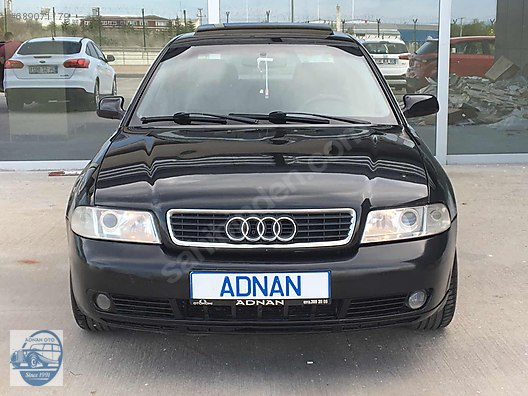audi: (218, 216, 303, 243)
